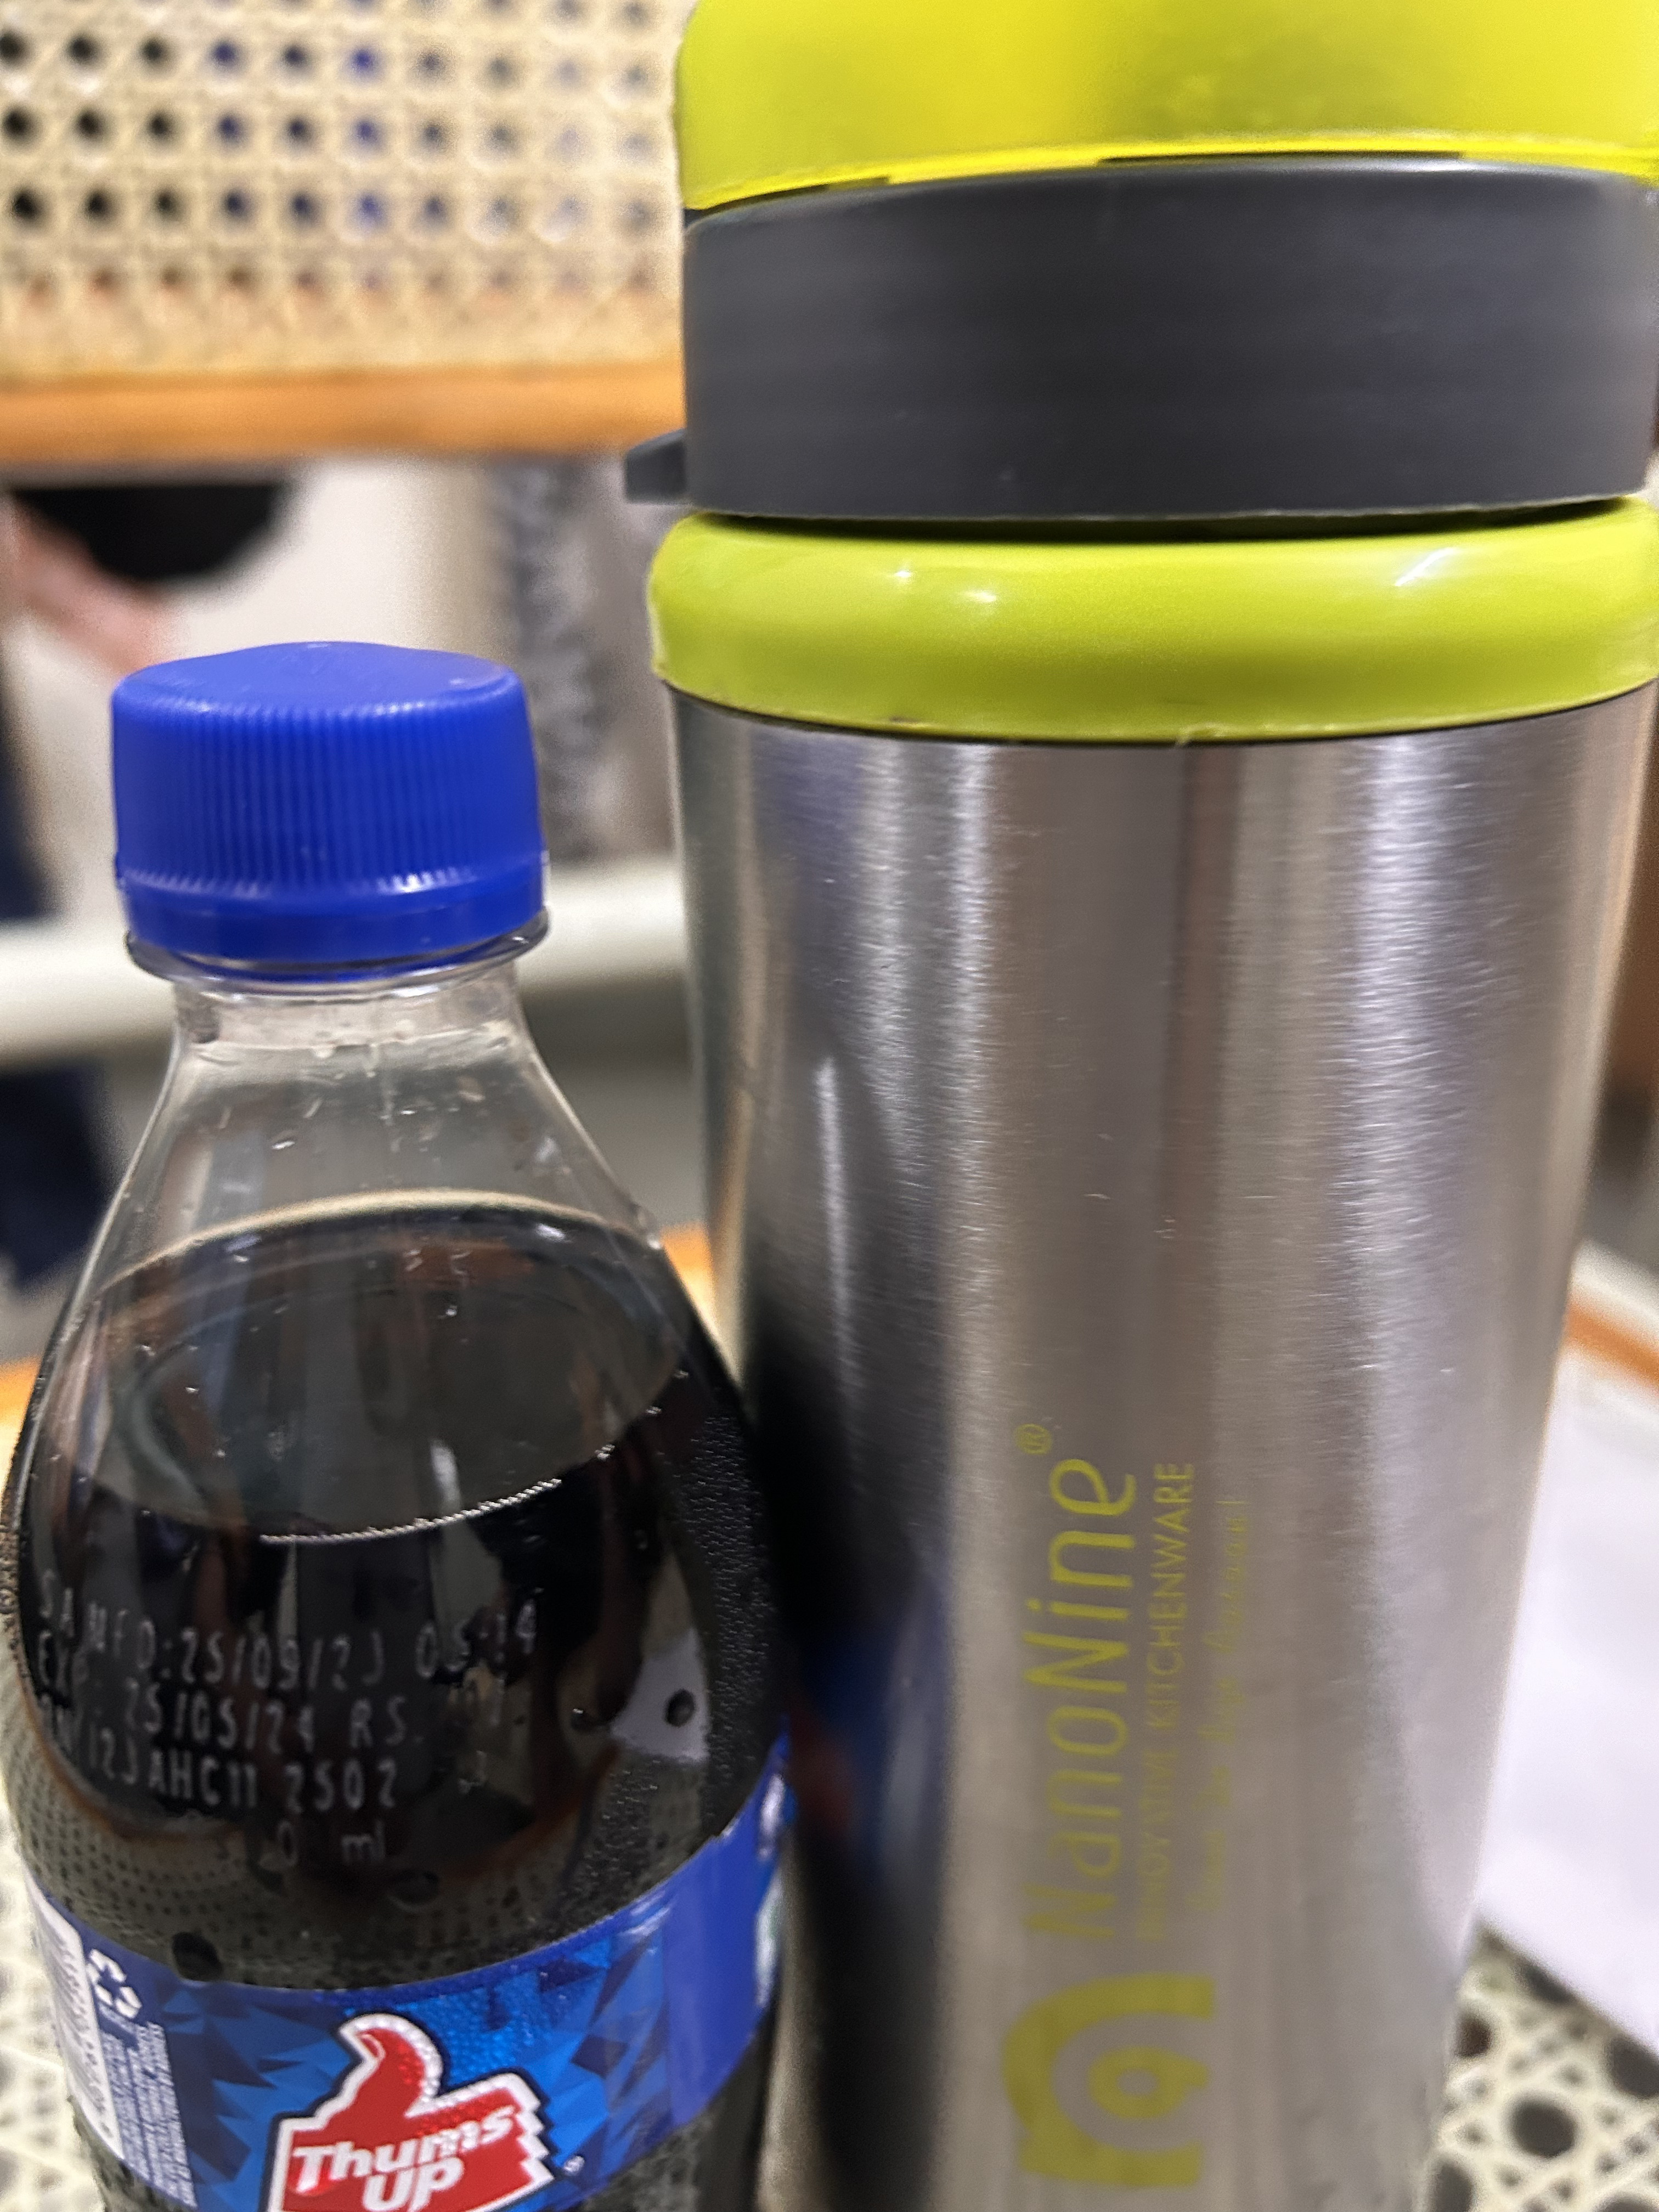sealstable: (94, 632, 558, 1043)
